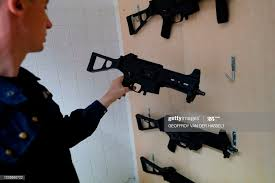gun: (86, 49, 213, 110), (134, 112, 244, 160), (126, 1, 234, 36)
